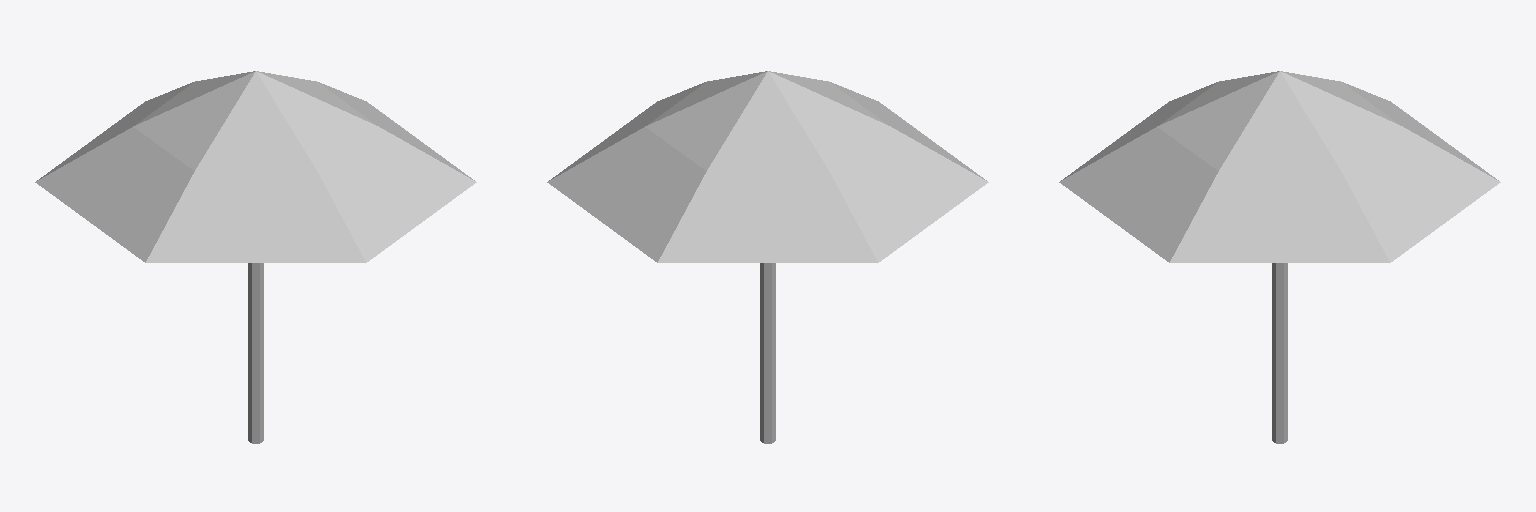
Rendered from Umbrella.obj.
3 renders of one model, left to right at view 1: azimuth 30°, elevation 25°; view 2: azimuth 150°, elevation 25°; view 3: azimuth 270°, elevation 25°, orthographic.
Parts seen in each view (by area): view 1: Cylinder; view 2: Cylinder; view 3: Cylinder.
Part boxes in pixels (left/top/right/bottom): Cylinder: left=35, top=71, right=476, bottom=443; Cylinder: left=547, top=71, right=988, bottom=443; Cylinder: left=1059, top=71, right=1500, bottom=443.
Bounding box in the file's own units: 4.99 × 5.32 × 5.76.